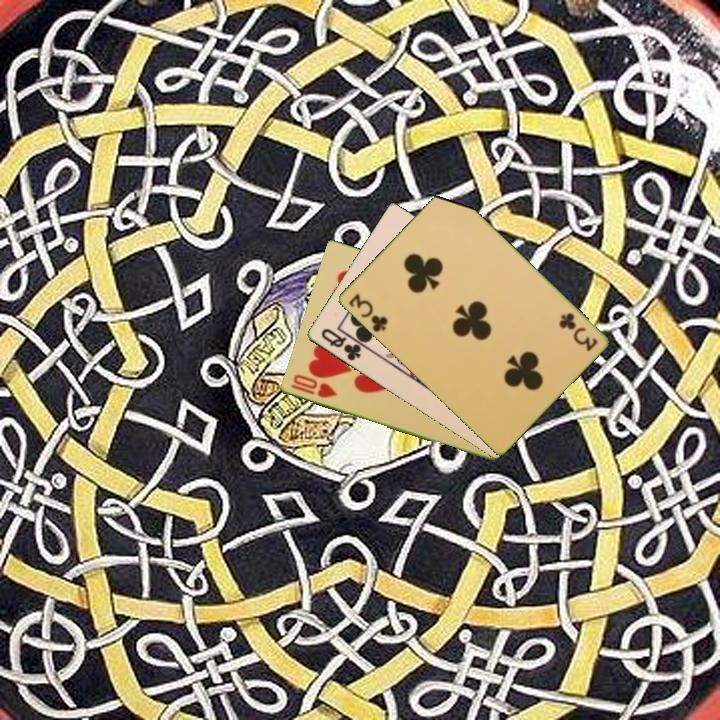10h: (287, 371, 339, 401)
3c: (345, 290, 391, 335), (555, 309, 600, 354)
Qc: (317, 325, 364, 364)
